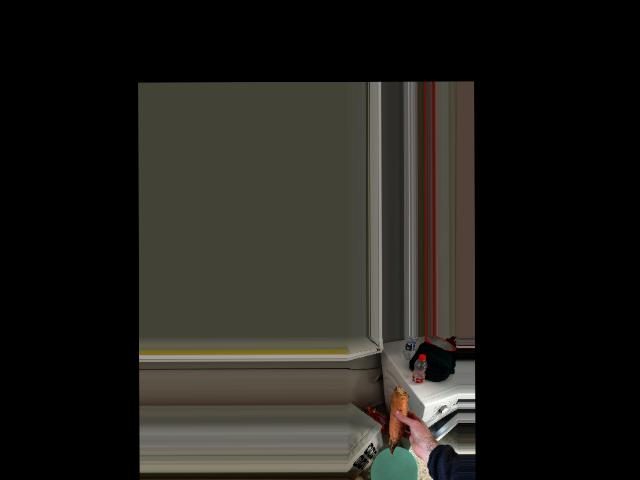sweet_potato: (390, 383, 405, 455)
